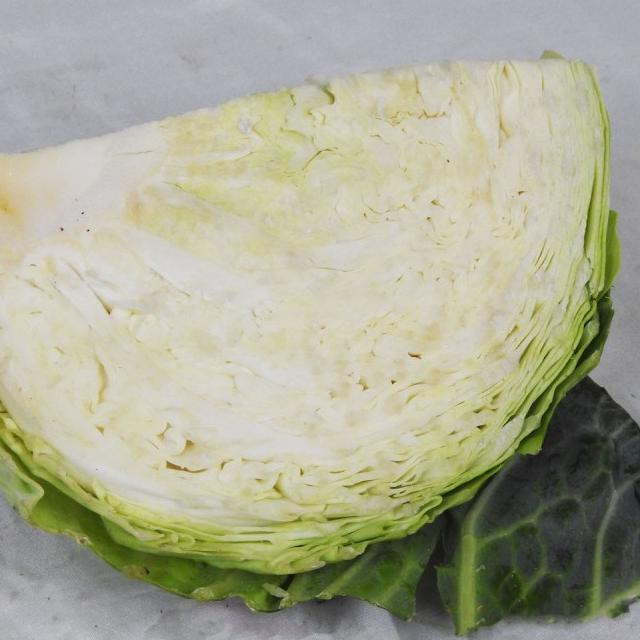cabbage: (0, 63, 621, 581)
